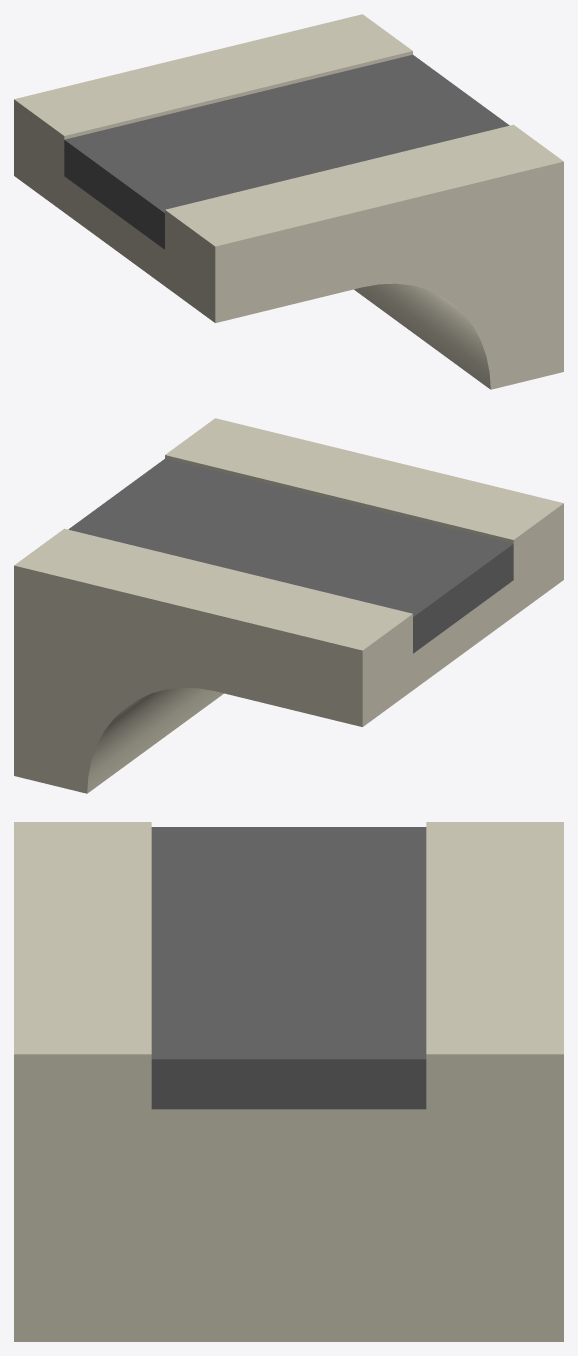
Rendered from roadTile_199.fbx.
The picture shows the model from 3 angles, top to bottom: view 1: azimuth 30°, elevation 25°; view 2: azimuth 150°, elevation 25°; view 3: azimuth 270°, elevation 25°; orthographic projection. The views are drawn at different scales.
Visible parts, largest first — view 1: roadTile_199; view 2: roadTile_199; view 3: roadTile_199.
Part boxes in pixels (x1,y1,x2,y2): roadTile_199: (14,14,563,389); roadTile_199: (14,418,563,793); roadTile_199: (14,822,563,1341).
Size of the model in its own units: 118 by 68.11 by 118.
